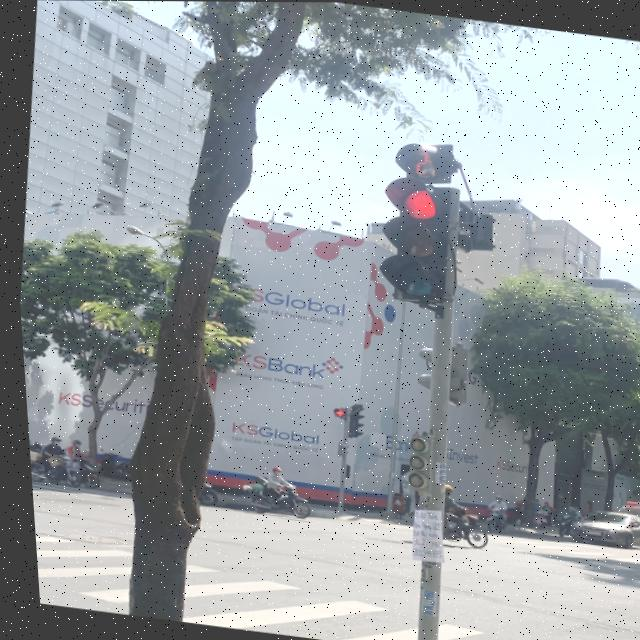Red: (358, 172, 467, 314)
